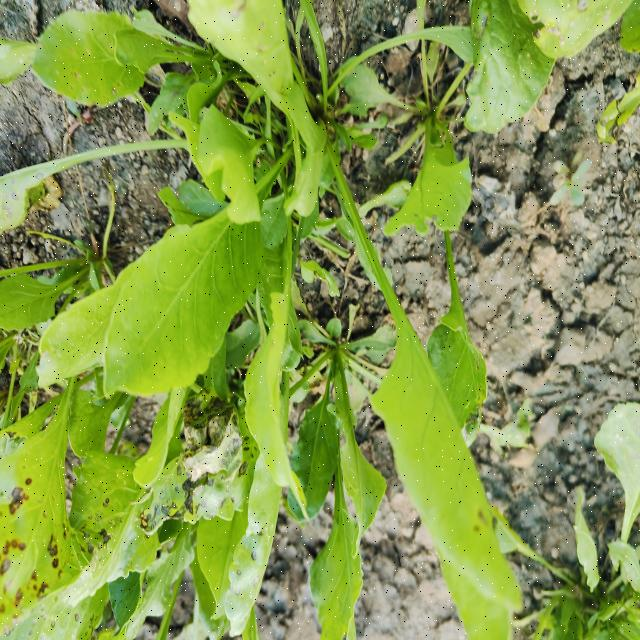leaves: (331, 117, 546, 640), (89, 150, 309, 424), (122, 261, 267, 512), (189, 312, 297, 625), (176, 3, 340, 196), (291, 293, 369, 640), (32, 15, 277, 116), (383, 64, 480, 242), (169, 123, 316, 236), (280, 315, 342, 545), (336, 324, 391, 568), (117, 487, 208, 633), (1, 231, 94, 362)
